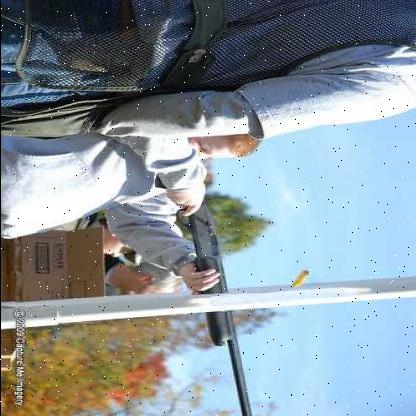rifle: (121, 146, 278, 415)
